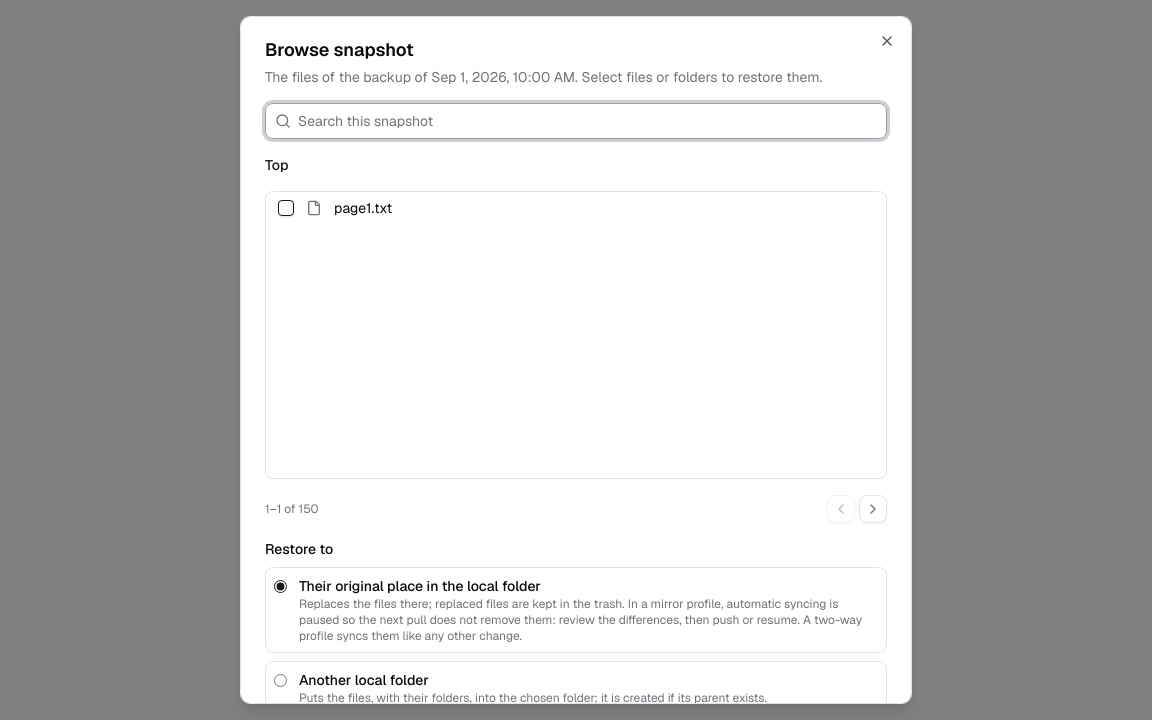
SnapshotBrowser navigation › pages through a large folder
This screenshot has width=1152, height=720.
Expected: the text "page1.txt" is shown, [334,199,392,217]
Expected: the dialog "Browse snapshot" shows "1–1 of 150", [265,501,318,517]
Click the button named "Next page".
click(873, 509)  # box [859,495,887,523]
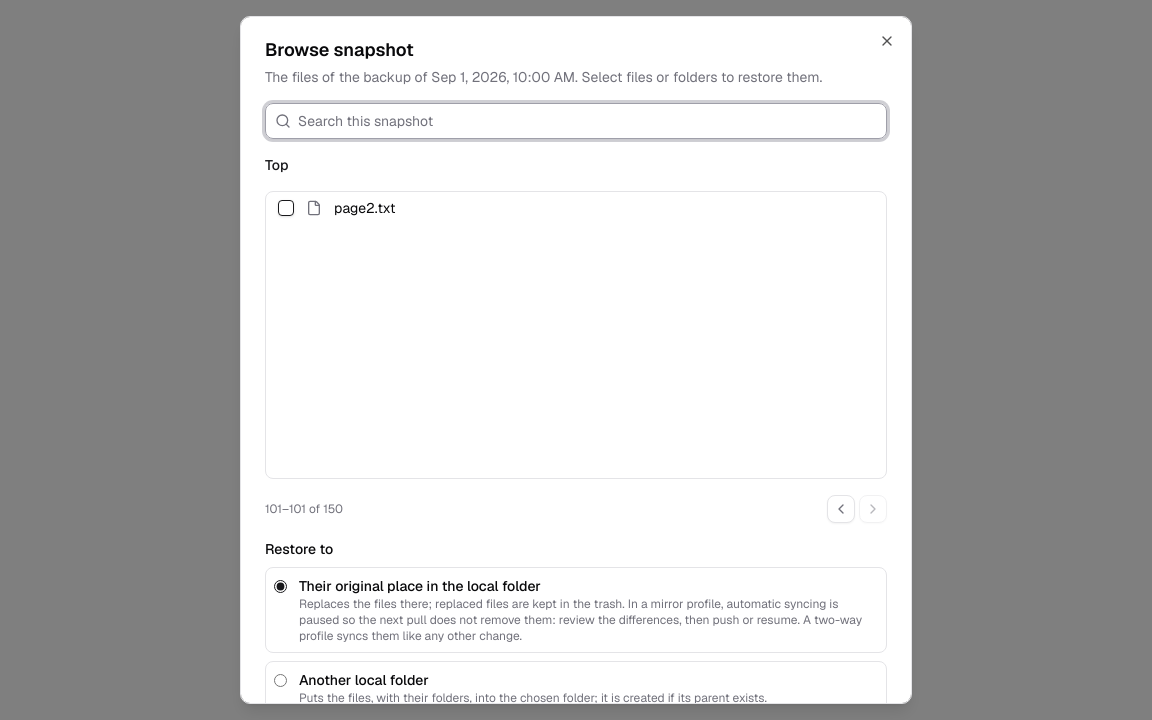
Now the text "page2.txt" is shown, box [334,199,396,217]
Click the button named "Previous page".
click(841, 509)  # box [827,495,855,523]
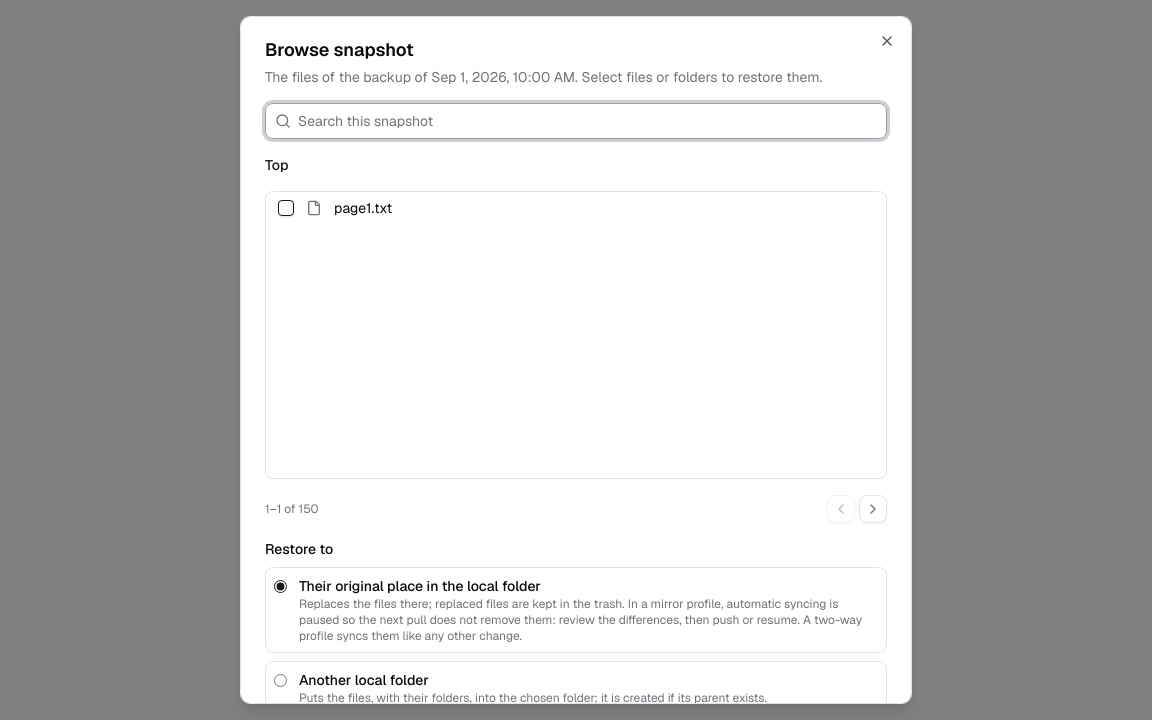
Now the text "page1.txt" is shown, box [334,199,392,217]
